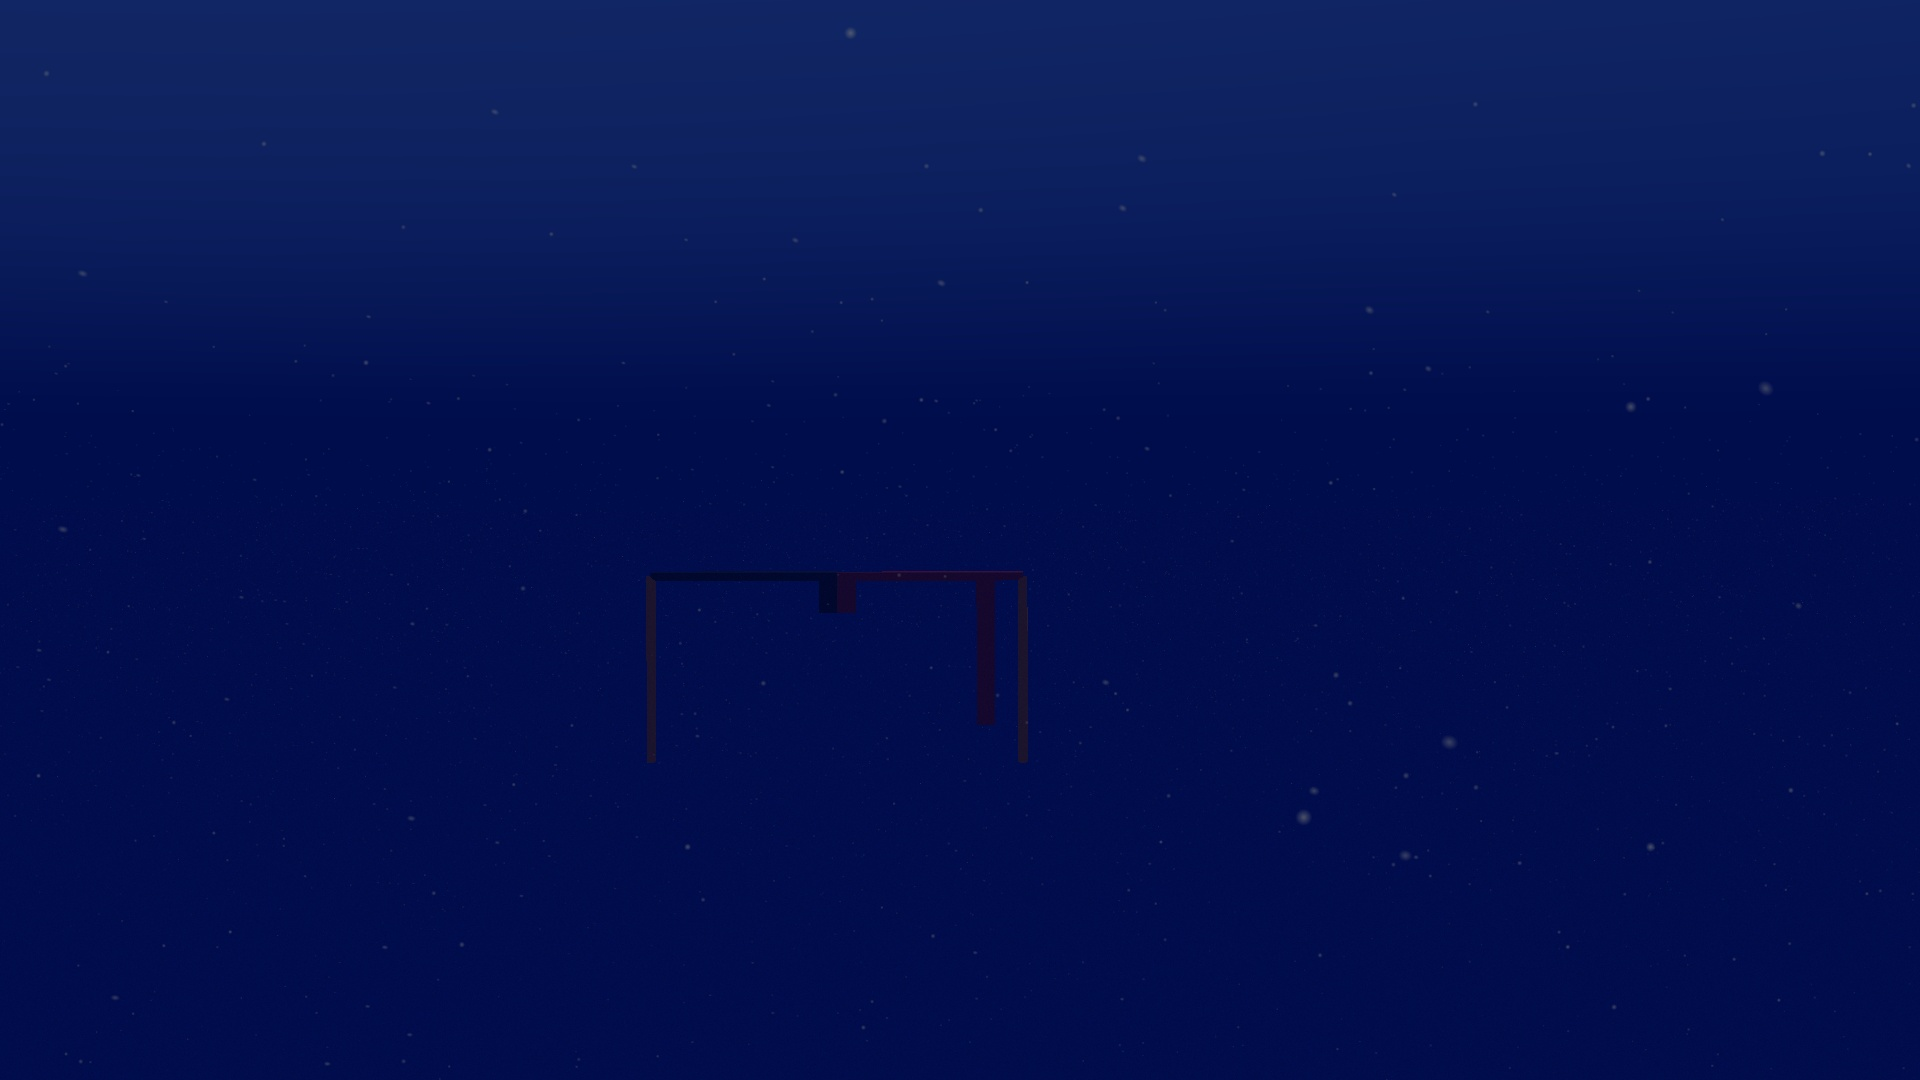Gate: (636, 560, 1040, 779)
